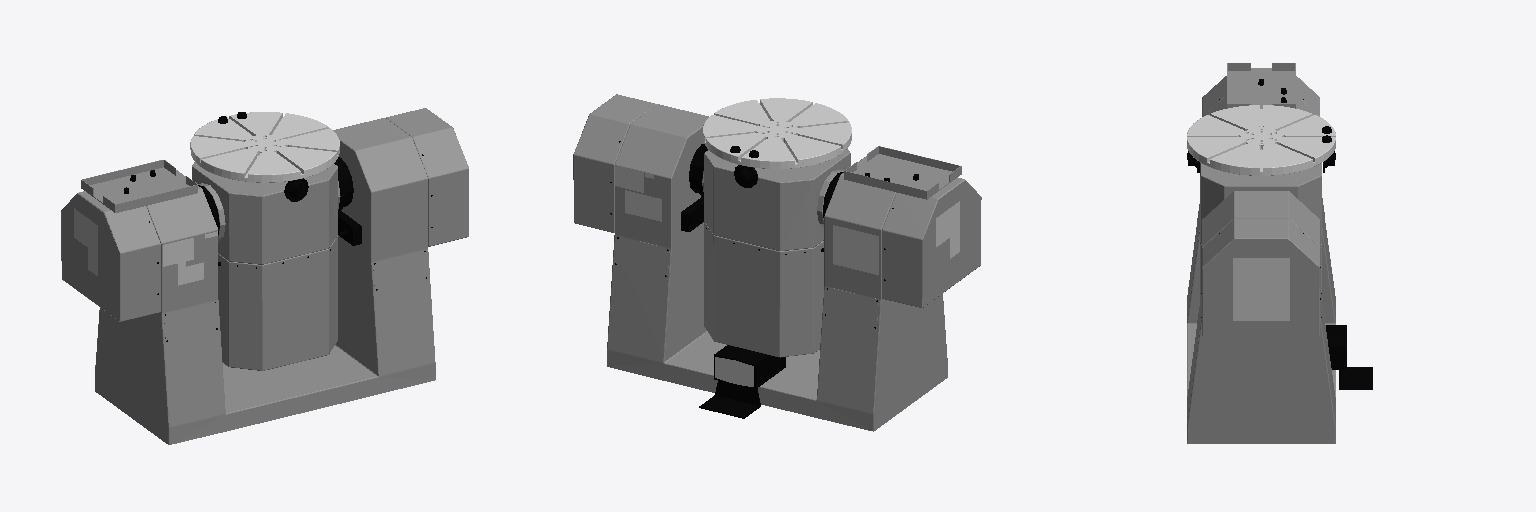
File: 24SZZT.obj
3 renders of one model, left to right at view 1: azimuth 30°, elevation 25°; view 2: azimuth 150°, elevation 25°; view 3: azimuth 270°, elevation 25°, orthographic.
Parts seen in each view (by area): view 1: Matel_02_03, Matel_02_02, matel_01, Tex_01, Matel_05_03; view 2: Matel_02_03, Matel_02_02, matel_01, Tex_01, Matel_05_04, Matel_05_03, Tex_02; view 3: Matel_02_03, matel_01, Tex_01, Matel_02_02, Matel_05_04.
Part boxes in pixels (bbox=[...]): Matel_02_03: bbox=[61, 108, 468, 444]; Matel_02_02: bbox=[192, 162, 340, 370]; matel_01: bbox=[190, 112, 339, 182]; Tex_01: bbox=[74, 208, 217, 285]; Matel_05_03: bbox=[124, 154, 432, 341]; Matel_02_03: bbox=[573, 94, 981, 431]; Matel_02_02: bbox=[702, 148, 850, 357]; matel_01: bbox=[703, 98, 851, 168]; Tex_01: bbox=[615, 166, 959, 274]; Matel_05_04: bbox=[699, 345, 785, 418]; Matel_05_03: bbox=[610, 141, 918, 328]; Tex_02: bbox=[715, 357, 753, 386]; Matel_02_03: bbox=[1187, 63, 1335, 443]; matel_01: bbox=[1187, 105, 1335, 175]; Tex_01: bbox=[1233, 258, 1289, 320]; Matel_02_02: bbox=[1200, 163, 1321, 299]; Matel_05_04: bbox=[1326, 325, 1372, 389].
Size of the model in its own units: 71.93 by 48.32 by 33.17.